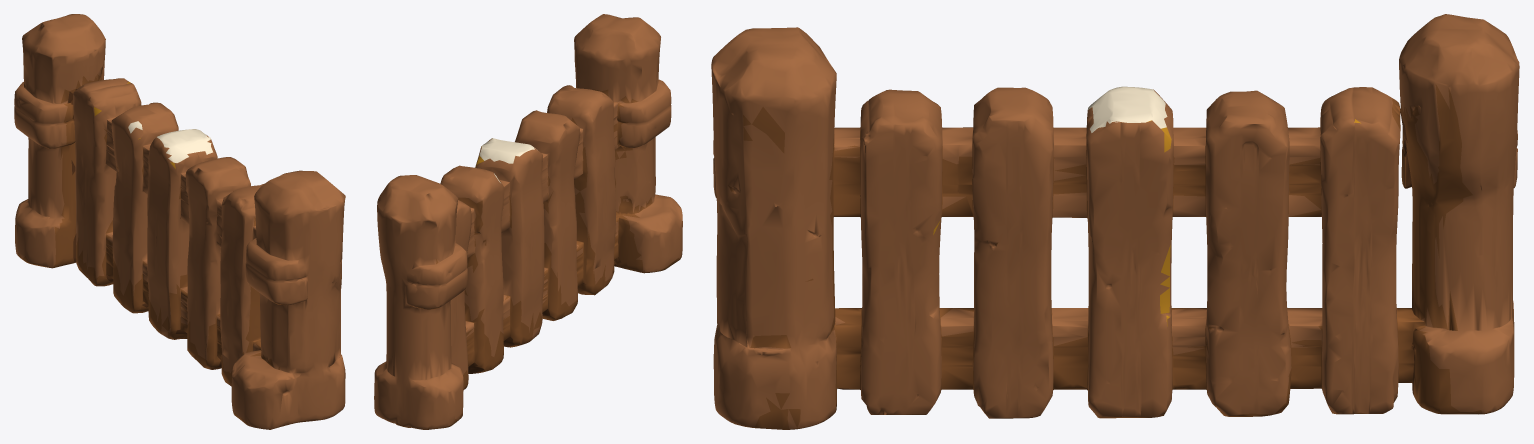
File: SM_fence_wood.glb
3 views of the same model, side by side, from view 1: azimuth 30°, elevation 25°; view 2: azimuth 150°, elevation 25°; view 3: azimuth 270°, elevation 25° (orthographic). The views are drawn at different scales.
Parts seen in each view (by area): view 1: SM_fence_wood; view 2: SM_fence_wood; view 3: SM_fence_wood.
Boxes of the visible parts, bbox=[...] form: SM_fence_wood: bbox=[14, 14, 345, 429]; SM_fence_wood: bbox=[374, 14, 682, 429]; SM_fence_wood: bbox=[711, 14, 1519, 429].
Bounding box in the file's own units: 0.4349 × 1 × 1.98.
Materials: 1 (1 with a texture image).
